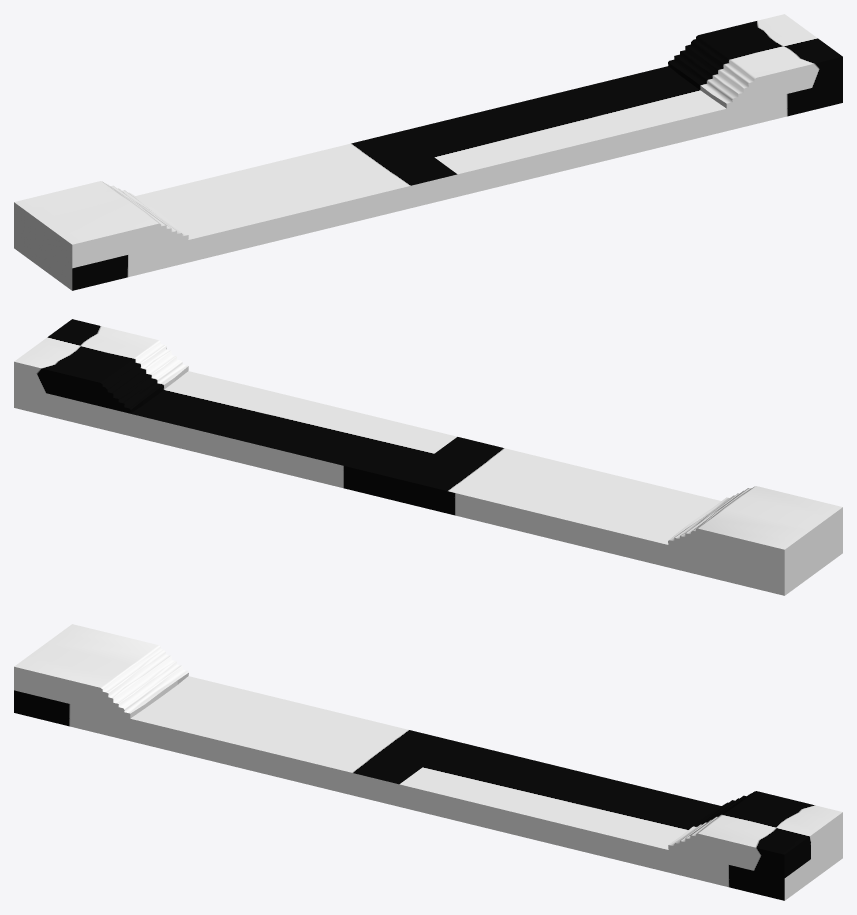
File: bridge01.obj
3 views of the same model, one above another, from view 1: azimuth 30°, elevation 25°; view 2: azimuth 150°, elevation 25°; view 3: azimuth 330°, elevation 25° (orthographic).
Parts seen in each view (by area): view 1: Box001; view 2: Box001; view 3: Box001.
Part boxes in pixels (box(x1,y1,x2,y2)): Box001: box(14, 14, 842, 290); Box001: box(14, 319, 842, 595); Box001: box(14, 624, 842, 900).
Bounding box in the file's own units: 133 × 7.61 × 17.41.
Materials: 1 (1 with a texture image).
